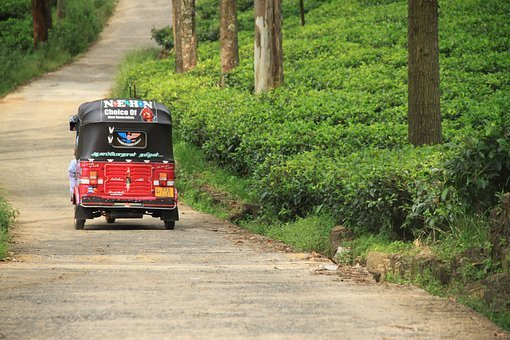threewheel: (68, 97, 181, 230)
